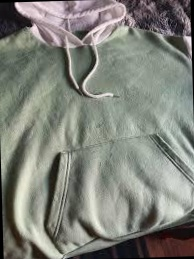oil: (97, 131, 123, 166), (92, 116, 105, 129)
